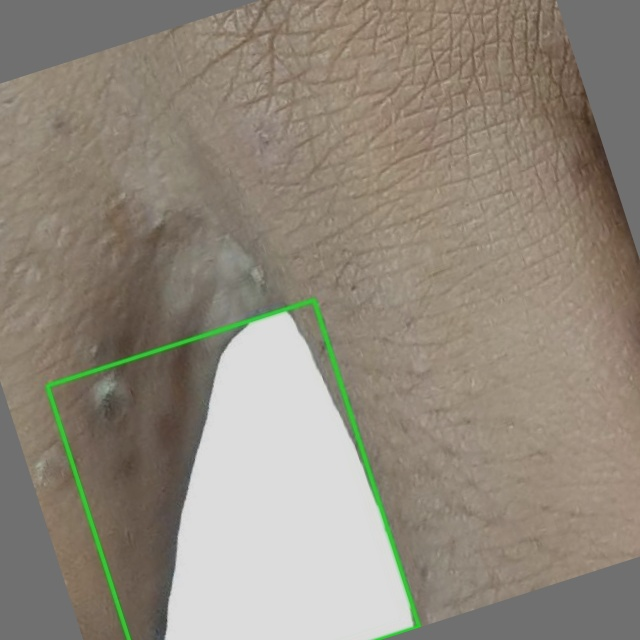Scabies: (47, 300, 418, 639)
